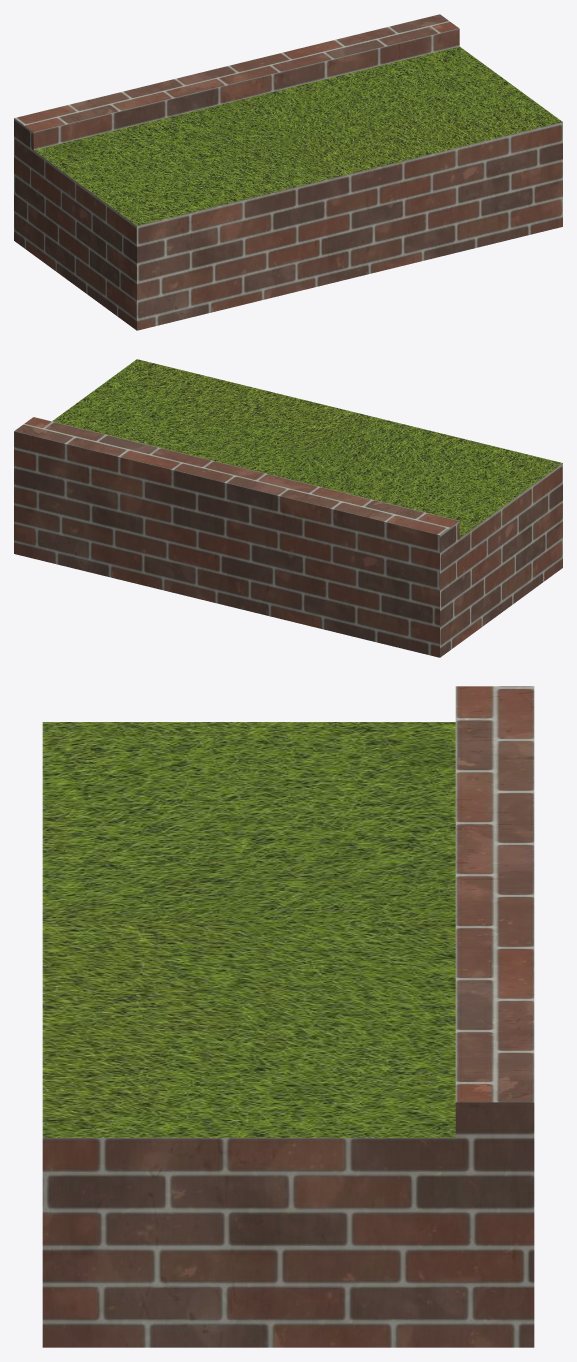
The model's file is grass_edge_half.dae.
The picture shows the model from 3 angles, top to bottom: view 1: azimuth 30°, elevation 25°; view 2: azimuth 150°, elevation 25°; view 3: azimuth 270°, elevation 25°; orthographic projection. The views are drawn at different scales.
Visible parts, largest first — view 1: group_0 (×2); view 2: group_0 (×2); view 3: group_0 (×2).
Part boxes in pixels (x1,y1,x2,y2): group_0 (×2): [14, 14, 562, 330]; group_0 (×2): [14, 359, 562, 657]; group_0 (×2): [42, 686, 534, 1347].
Size of the model in its own units: 39.37 by 19.69 by 10.83.
2 materials, 2 textured.
